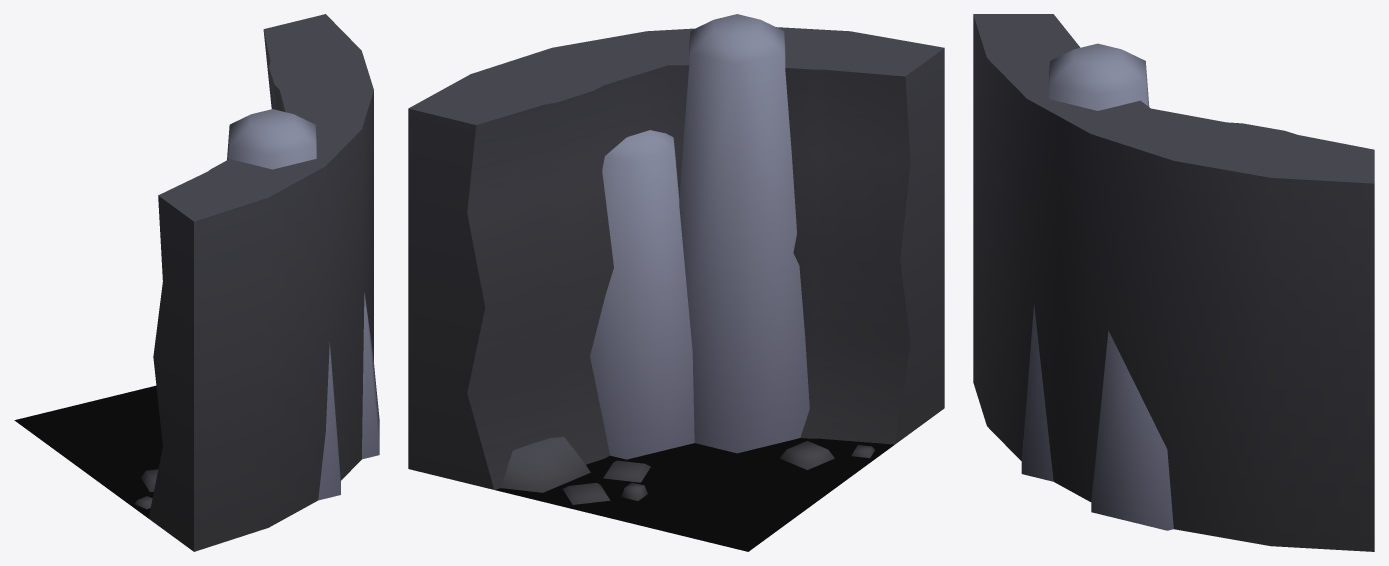
Rendered from template-corner.fbx.
The picture shows the model from 3 angles, left to right: view 1: azimuth 30°, elevation 25°; view 2: azimuth 150°, elevation 25°; view 3: azimuth 270°, elevation 25°; orthographic projection. The views are drawn at different scales.
Visible parts, largest first — view 1: template-corner; view 2: template-corner; view 3: template-corner.
Boxes of the visible parts, x1,y1,x2,y2 form: template-corner: [14, 14, 379, 551]; template-corner: [408, 14, 944, 551]; template-corner: [973, 14, 1374, 551].
Size of the model in its own units: 400 by 440 by 400.
